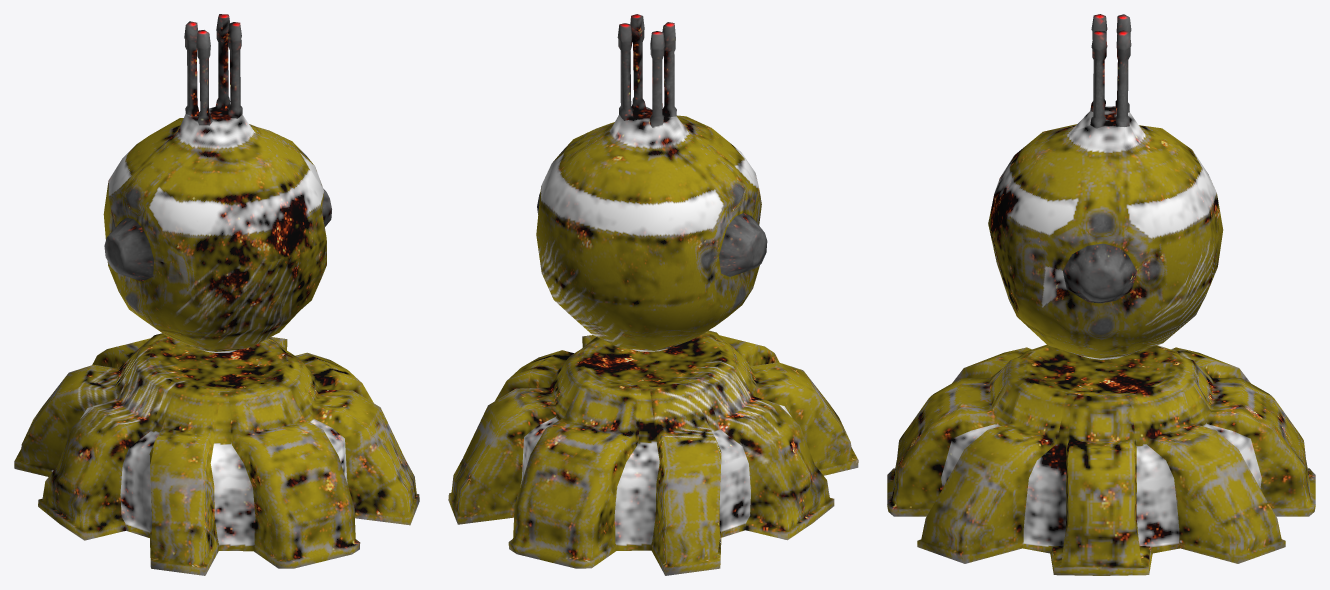
Rendered from TurretUV4.fbx.
3 views of the same model, side by side, from view 1: azimuth 30°, elevation 25°; view 2: azimuth 150°, elevation 25°; view 3: azimuth 270°, elevation 25° (orthographic). The views are drawn at different scales.
Visible parts, largest first — view 1: polySurface2, polySurface1; view 2: polySurface2, polySurface1; view 3: polySurface2, polySurface1.
Part boxes in pixels (<box>): polySurface2: <box>14,333,419,575</box>; polySurface1: <box>103,14,331,352</box>; polySurface2: <box>448,330,858,575</box>; polySurface1: <box>536,14,767,351</box>; polySurface2: <box>887,345,1315,575</box>; polySurface1: <box>988,14,1223,359</box>.
Size of the model in its own units: 73.4 by 101 by 83.37.
